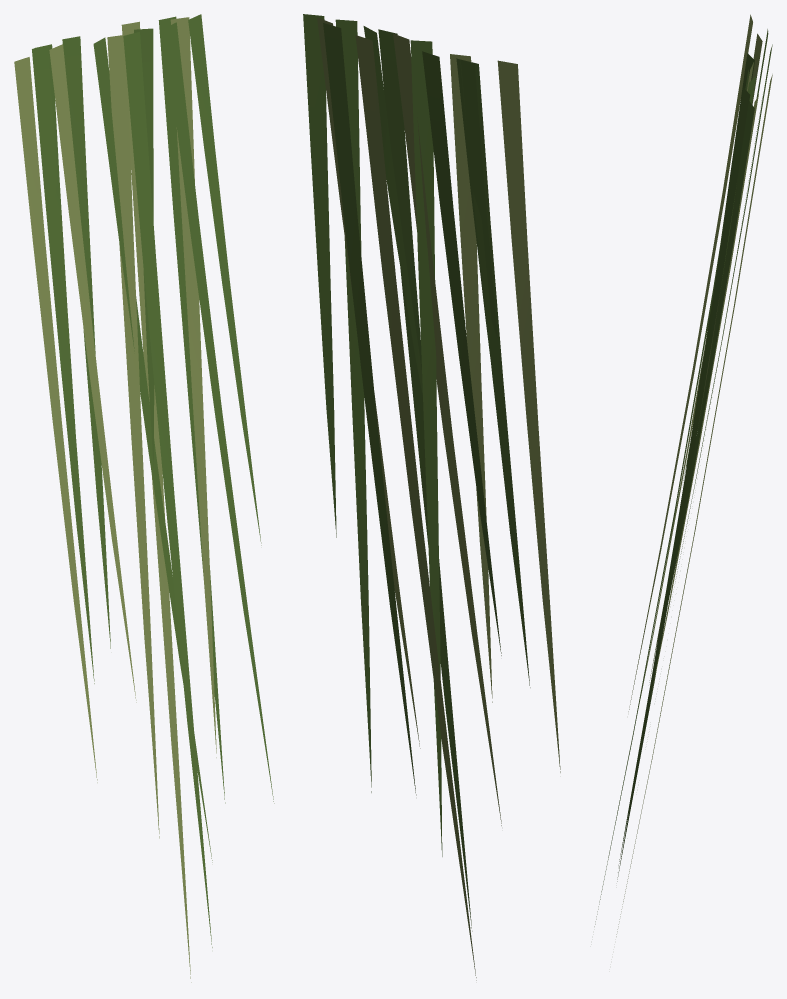
The model's file is moss-hanging-a.glb.
3 renders of one model, left to right at view 1: azimuth 30°, elevation 25°; view 2: azimuth 150°, elevation 25°; view 3: azimuth 270°, elevation 25°, orthographic. The views are drawn at different scales.
Visible parts, largest first — view 1: moss-hanging-a; view 2: moss-hanging-a; view 3: moss-hanging-a.
Part boxes in pixels (x1=…): moss-hanging-a: x1=14, y1=14, x2=274, y2=982; moss-hanging-a: x1=303, y1=14, x2=560, y2=980; moss-hanging-a: x1=594, y1=14, x2=772, y2=936.
Size of the model in its own units: 0.114 by 0.478 by 0.0868.
